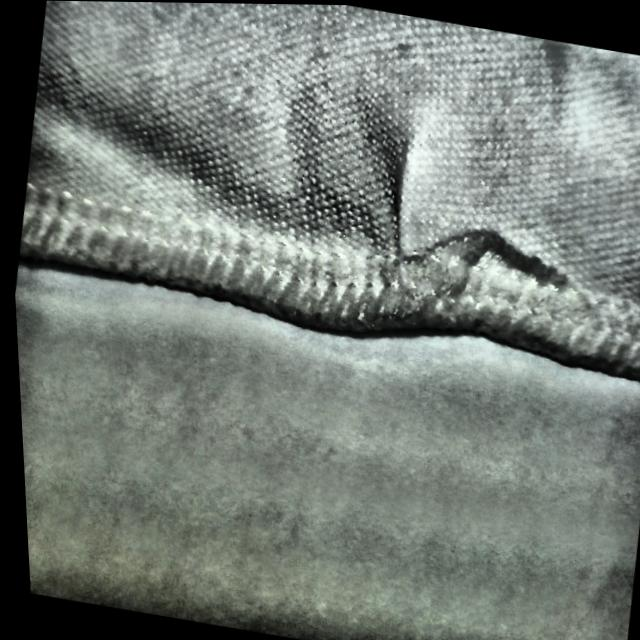seam: (324, 132, 569, 353)
